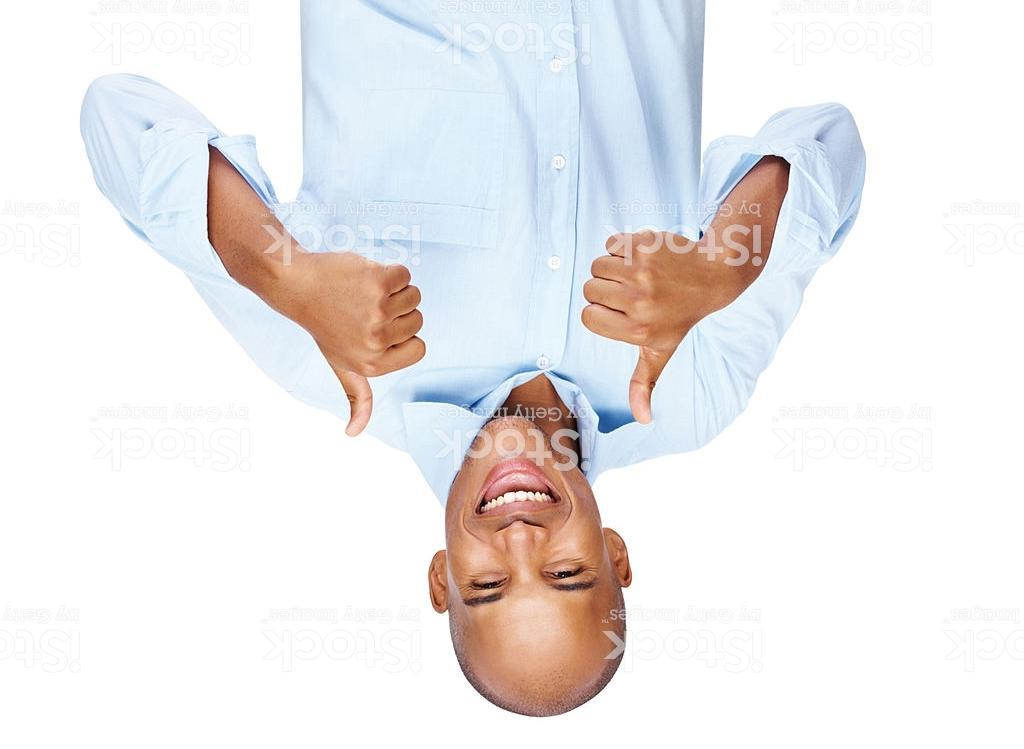thumbsdown: (579, 232, 660, 426), (343, 265, 426, 438)
